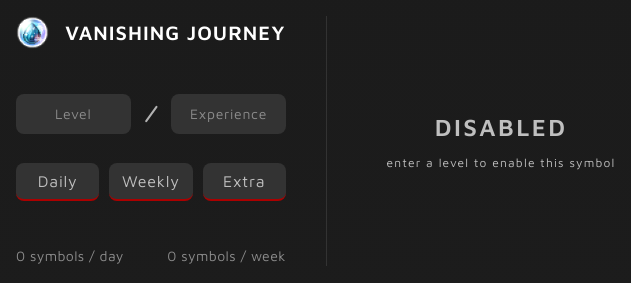
Test: Calculator — level and experience inputs › clamps the level input: '0' → 1, ≥ 20 → 20 with exp reset, negative → unset
Type "0" into the number field with placeholder "Level" at (73, 114), box [16,94,130,134]
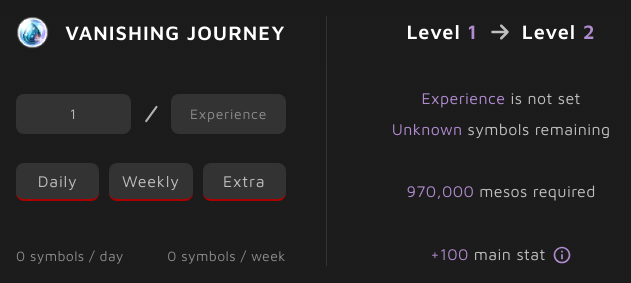
Replace the text in the number field with placeholder "Level" with "25" at (73, 114), box [16,94,130,134]
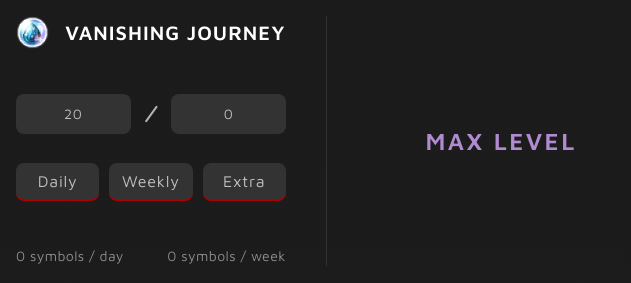
Check: the text "MAX LEVEL" is shown, box [426,125,577,157]
Replace the text in the 1st number field with placeholder "Level" with "-3" at (73, 114), box [16,94,130,134]
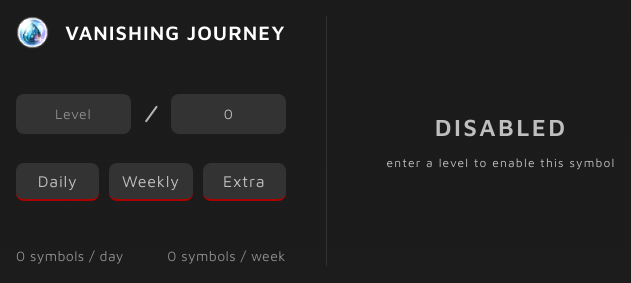
Check: the text "DISABLED" is shown, box [435,113,568,141]
